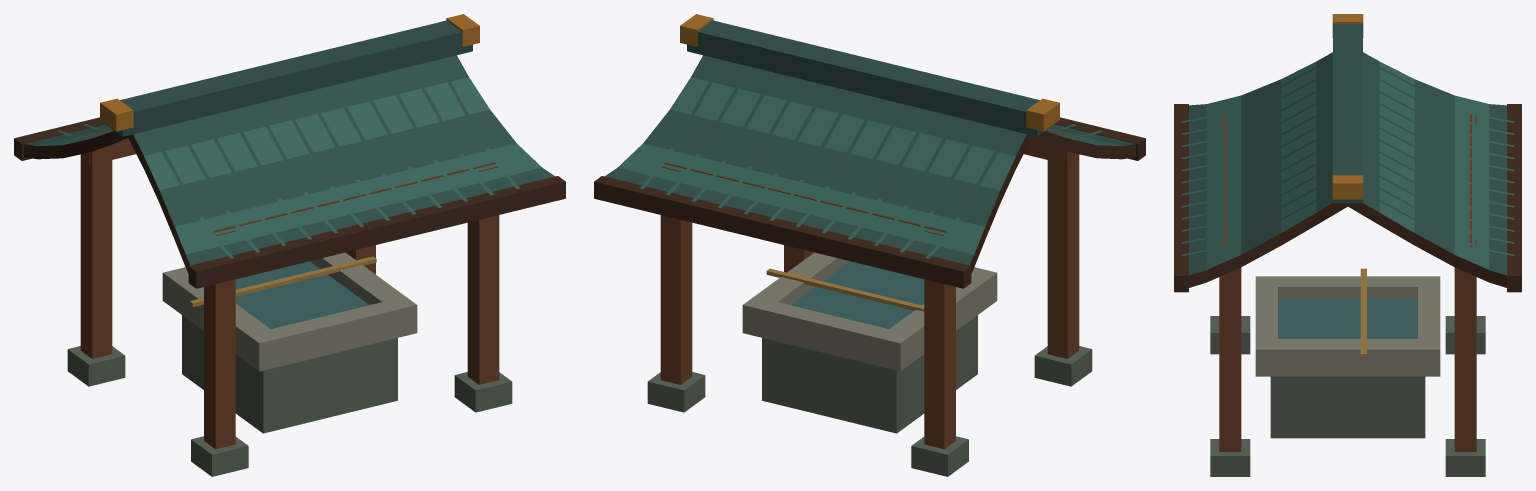
Rendered from shrine-temizuya.obj.
3 renders of one model, left to right at view 1: azimuth 30°, elevation 25°; view 2: azimuth 150°, elevation 25°; view 3: azimuth 270°, elevation 25°, orthographic. The views are drawn at different scales.
Size of the model in its own units: 3.84 by 3.21 by 3.28.
